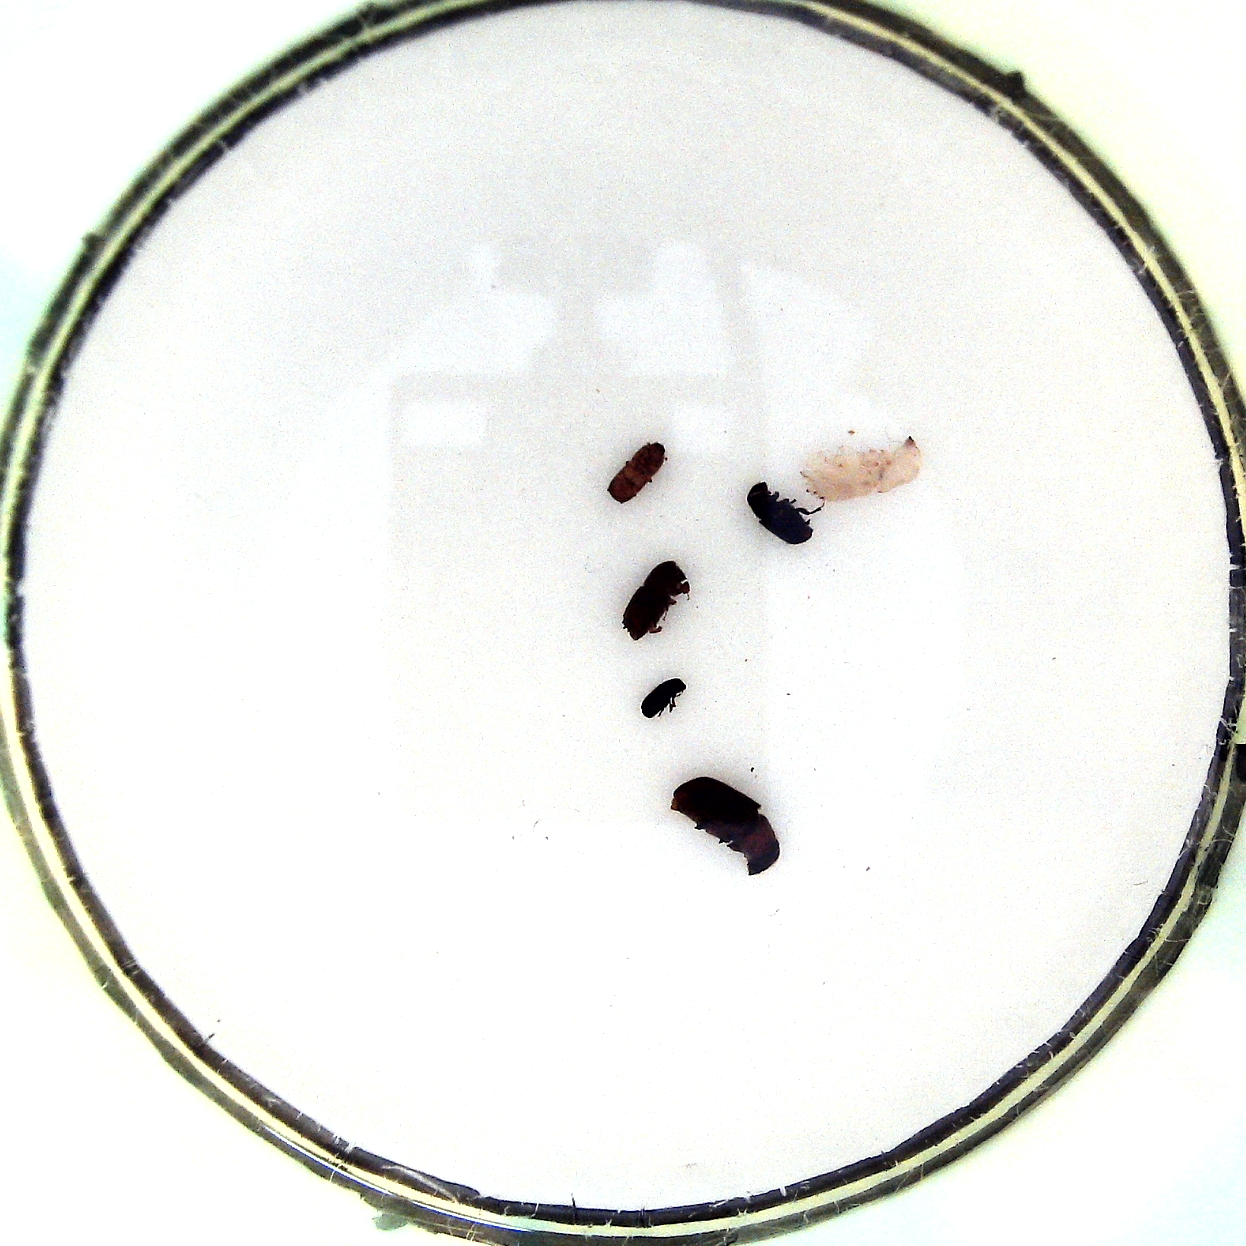Boerner: (803, 432, 921, 500)
Leconte: (673, 774, 780, 881)
Linnaeus: (618, 561, 693, 641)
acuminatus: (606, 435, 667, 510)
armandi: (747, 476, 824, 547)
coleoptera: (637, 677, 686, 730)
